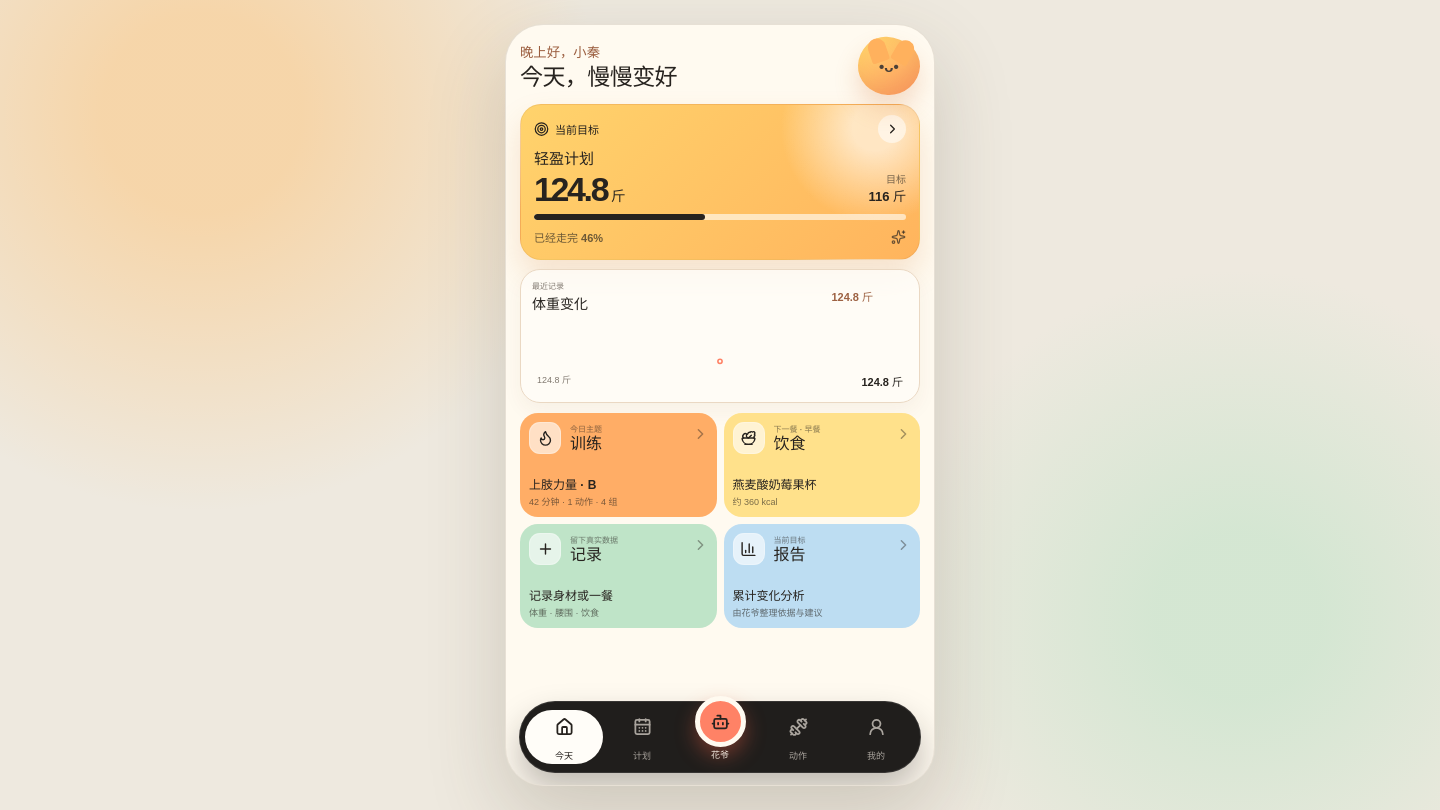
Test: App › keeps the record drawer inside the app focus flow and closes it with Escape
Expected: the text "124.8" is shown, [534,170,607,208]
Step 1. Click the button "留下真实数据 记录 记录身材或一餐 体重 · 腰围 · 饮食" → [618, 576], box [520,524,716,628]
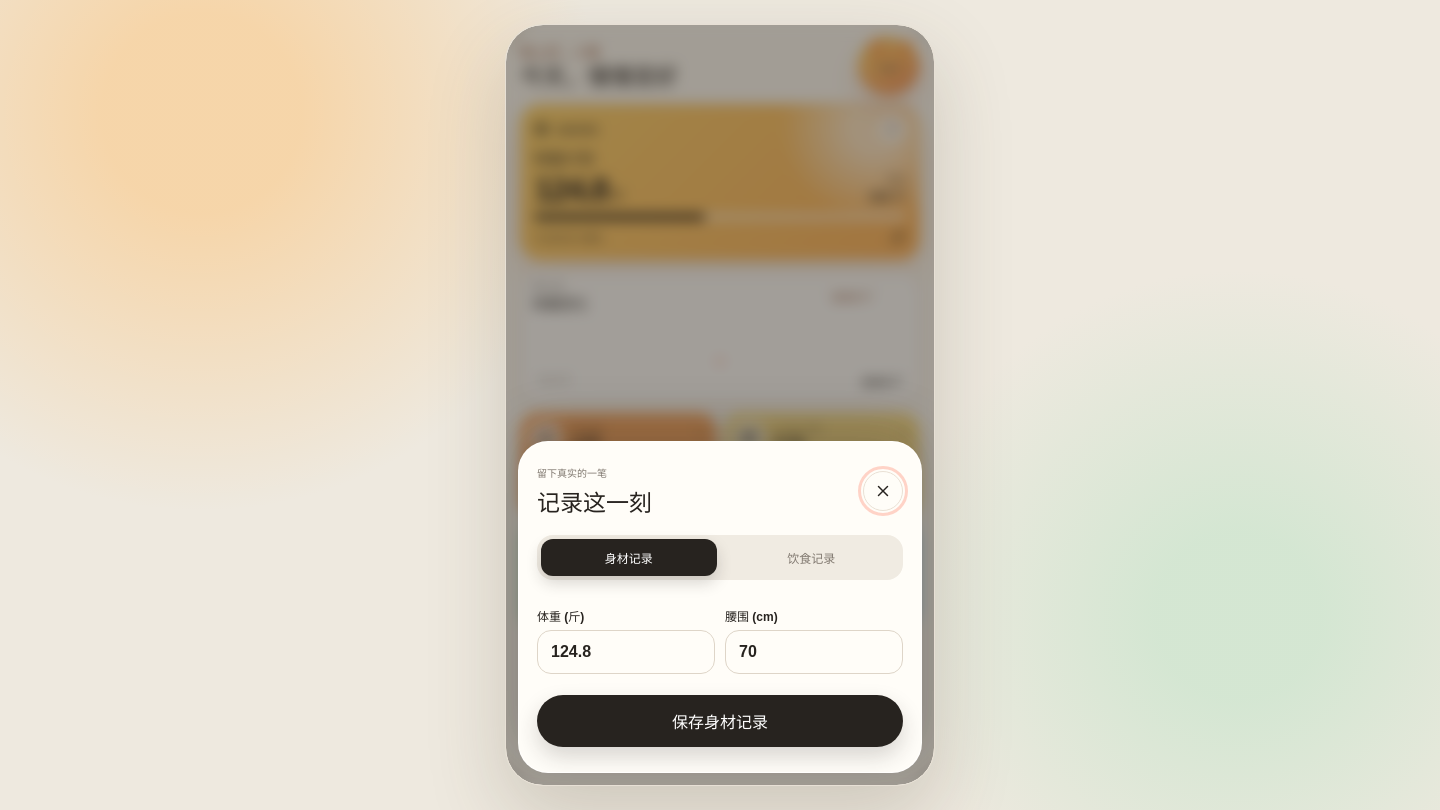
Now the dialog named "记录抽屉" is shown, box [506,25,934,785]
Step 2. Press Escape
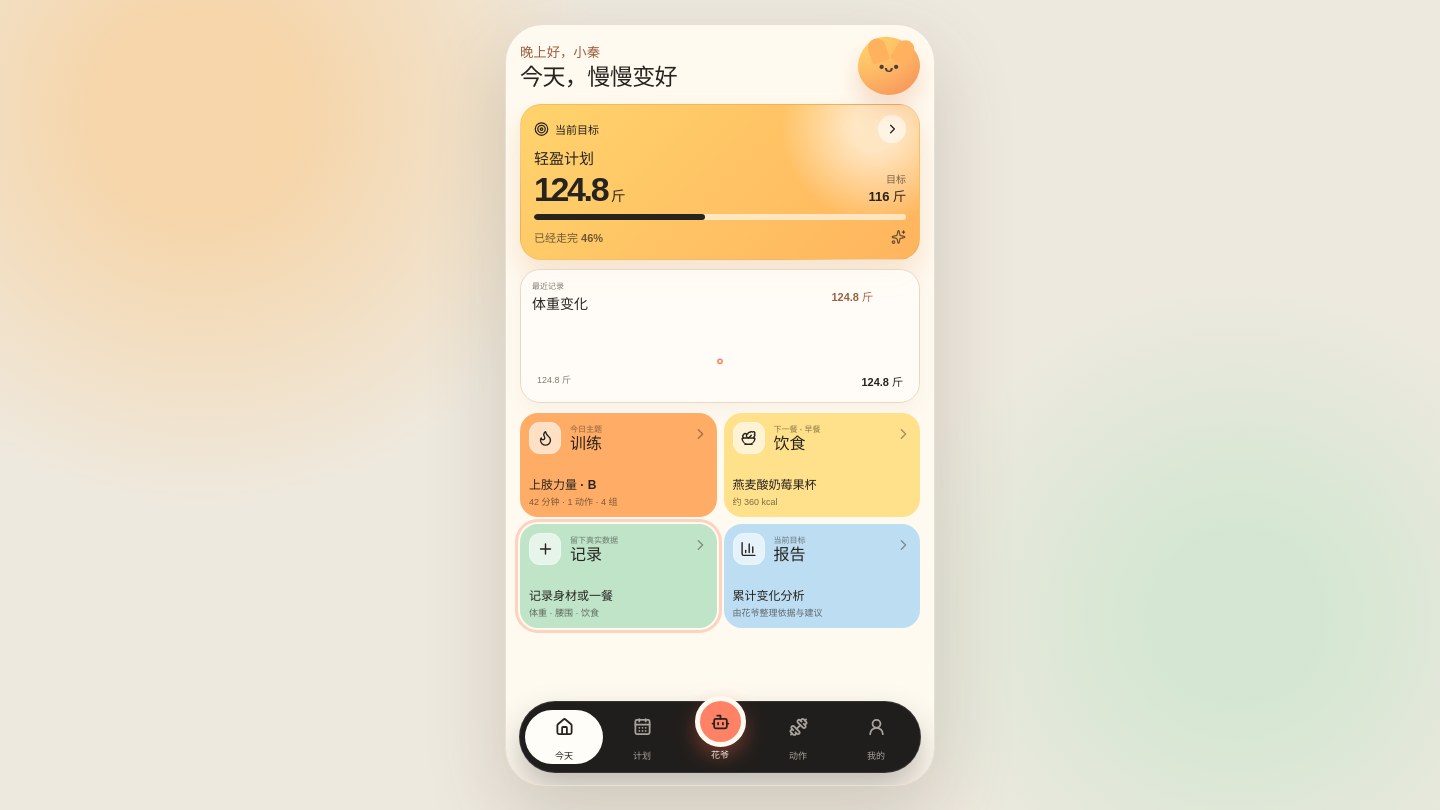
Now the dialog "记录抽屉" is gone
